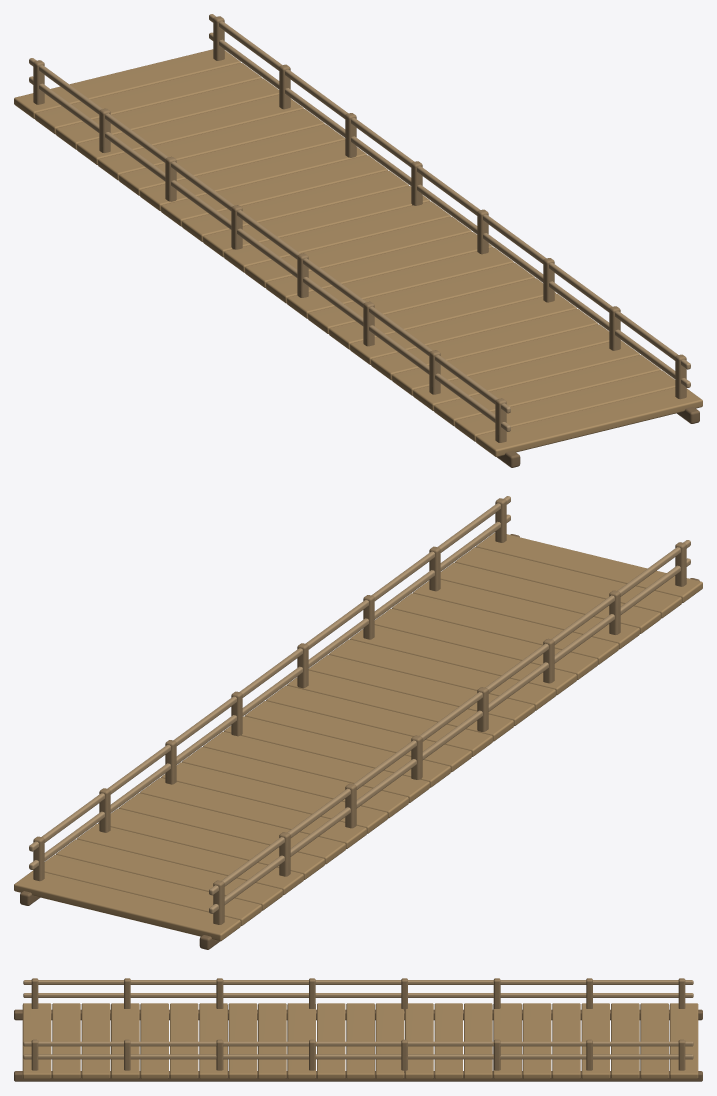
File: bridge-Bfba2So9.glb
The picture shows the model from 3 angles, top to bottom: view 1: azimuth 30°, elevation 25°; view 2: azimuth 150°, elevation 25°; view 3: azimuth 270°, elevation 25°; orthographic projection. The views are drawn at different scales.
Parts seen in each view (by area): view 1: bridge_deck, bridge_deck.015, bridge_deck.018, bridge_deck.001, bridge_deck.012, bridge_deck.021, bridge_deck.002, bridge_deck.005, bridge_deck.009, bridge_deck.008, bridge_deck.011, bridge_deck.017 (+15 smaller); view 2: bridge_deck.022, bridge_deck.010, bridge_deck.007, bridge_deck.013, bridge_deck.021, bridge_deck.004, bridge_deck.001, bridge_deck.020, bridge_deck.016, bridge_deck.017, bridge_deck.014, bridge_deck.008 (+15 smaller); view 3: bridge_rail.002, bridge_rail.003, bridge_rail, bridge_rail.001, bridge_underside_beam.001, bridge_deck.002, bridge_deck.007, bridge_deck.017, bridge_deck.008, bridge_deck.011, bridge_deck.018, bridge_deck.001 (+33 smaller).
Boxes of the visible parts, bbox=[...] form: bridge_deck: bbox=[476, 387, 702, 456]; bridge_deck.015: bbox=[161, 155, 387, 226]; bridge_deck.018: bbox=[98, 109, 324, 180]; bridge_deck.001: bbox=[455, 370, 675, 441]; bridge_deck.012: bbox=[224, 201, 450, 272]; bridge_deck.021: bbox=[35, 63, 261, 134]; bridge_deck.002: bbox=[434, 355, 660, 426]; bridge_deck.005: bbox=[371, 309, 597, 380]; bridge_deck.009: bbox=[287, 247, 513, 318]; bridge_deck.008: bbox=[308, 262, 534, 333]; bridge_deck.011: bbox=[245, 216, 471, 287]; bridge_deck.017: bbox=[119, 124, 345, 195]; bridge_deck.022: bbox=[14, 870, 240, 941]; bridge_deck.010: bbox=[266, 685, 492, 756]; bridge_deck.007: bbox=[329, 639, 555, 710]; bridge_deck.013: bbox=[203, 731, 429, 802]; bridge_deck.021: bbox=[44, 854, 261, 925]; bridge_deck.004: bbox=[392, 593, 618, 664]; bridge_deck.001: bbox=[455, 547, 681, 618]; bridge_deck.020: bbox=[56, 839, 282, 910]; bridge_deck.016: bbox=[140, 777, 366, 848]; bridge_deck.017: bbox=[119, 793, 345, 864]; bridge_deck.014: bbox=[182, 747, 408, 818]; bridge_deck.008: bbox=[308, 654, 534, 725]; bridge_rail.002: bbox=[23, 1054, 693, 1059]; bridge_rail.003: bbox=[23, 1041, 693, 1046]; bridge_rail: bbox=[23, 993, 693, 997]; bridge_rail.001: bbox=[23, 980, 693, 984]; bridge_underside_beam.001: bbox=[14, 1071, 702, 1081]; bridge_deck.002: bbox=[81, 1003, 110, 1078]; bridge_deck.007: bbox=[228, 1003, 257, 1078]; bridge_deck.017: bbox=[522, 1003, 551, 1078]; bridge_deck.008: bbox=[258, 1003, 286, 1078]; bridge_deck.011: bbox=[346, 1003, 374, 1078]; bridge_deck.018: bbox=[552, 1003, 580, 1078]; bridge_deck.001: bbox=[52, 1003, 80, 1078].
Bounding box in the file's own units: 400 × 105 × 1640.
